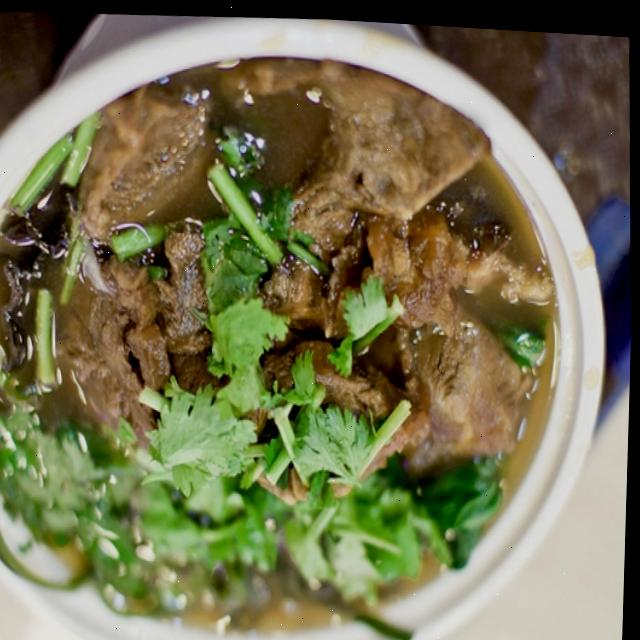面条主食: (0, 10, 603, 640)
